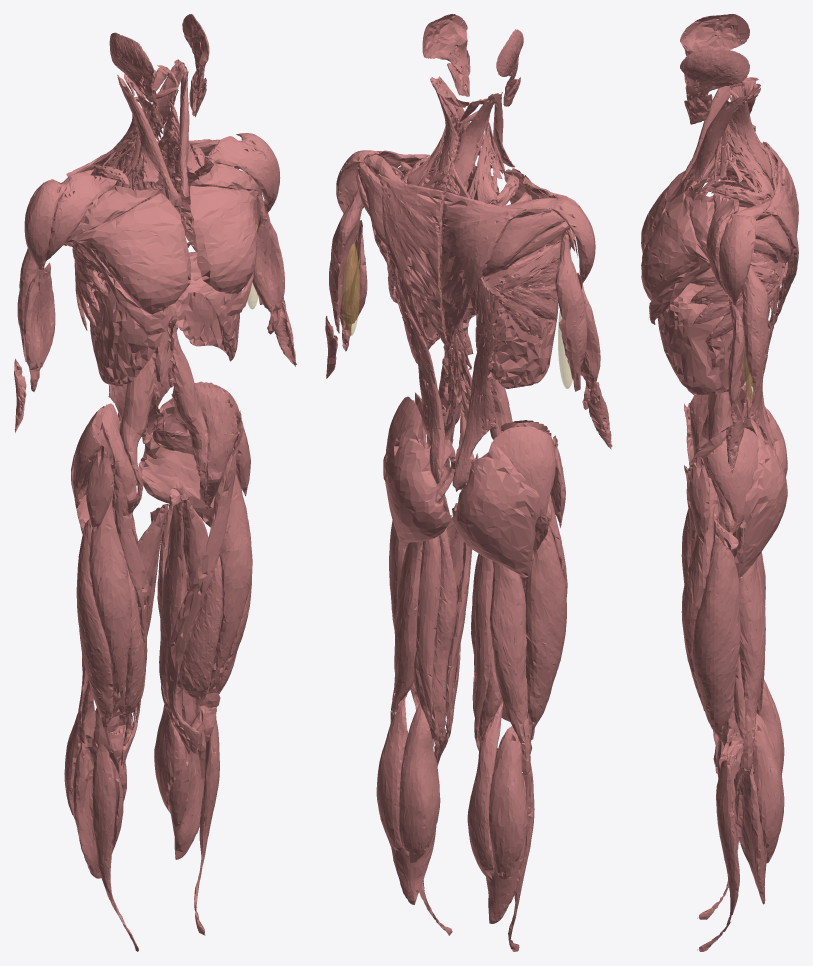
Rendered from TrP_Muscles_web_mirrored.glb.
3 views of the same model, side by side, from view 1: azimuth 30°, elevation 25°; view 2: azimuth 150°, elevation 25°; view 3: azimuth 270°, elevation 25° (orthographic). The views are drawn at different scales.
Visible parts, largest first — view 1: Diaphragm, Sternocostal_head_of_pectoralis_major_muscle.r, Sternocostal_head_of_pectoralis_major_muscle.l, Rectus_femoris_muscle.r, Rectus_femoris_muscle.l, Sartorius_muscle.l, Vastus_lateralis_muscle.r, Gluteus_maximus_muscle.l, Vastus_medialis_muscle.l, Soleus_muscle.l, Iliacus_muscle.l, Gracilis_muscle.l (+40 smaller); view 2: Gluteus_maximus_muscle.r, Descending_part_of_trapezius_muscle.l, Descending_part_of_trapezius_muscle.r, Vastus_lateralis_muscle.r, Long_head_of_biceps_femoris_muscle.r, Gluteus_maximus_muscle.l, Medial_head_of_gastrocnemius.l, Diaphragm, Lateral_head_of_gastrocnemius.r, Serratus_anterior_muscle.r, Iliocostalis_lumborum_muscle.r, Semimembranosus_muscle.l (+40 smaller); view 3: Vastus_lateralis_muscle.l, Diaphragm, Sternocostal_head_of_pectoralis_major_muscle.l, Gluteus_maximus_muscle.l, Long_head_of_biceps_femoris_muscle.l, Serratus_anterior_muscle.l, Lateral_head_of_gastrocnemius.l, Rectus_femoris_muscle.l, Gluteus_medius_muscle.l, Temporalis_muscle.l, Lateral_head_of_triceps_brachii_muscle.l, Soleus_muscle.l (+33 smaller).
Part boxes in pixels (x1=…): Diaphragm: x1=89, y1=251, x2=242, y2=386; Sternocostal_head_of_pectoralis_major_muscle.r: x1=66, y1=193, x2=191, y2=314; Sternocostal_head_of_pectoralis_major_muscle.l: x1=190, y1=185, x2=259, y2=293; Rectus_femoris_muscle.r: x1=89, y1=476, x2=131, y2=763; Rectus_femoris_muscle.l: x1=199, y1=453, x2=252, y2=741; Sartorius_muscle.l: x1=166, y1=428, x2=243, y2=752; Vastus_lateralis_muscle.r: x1=76, y1=517, x2=113, y2=753; Gluteus_maximus_muscle.l: x1=138, y1=398, x2=214, y2=527; Vastus_medialis_muscle.l: x1=179, y1=556, x2=222, y2=726; Soleus_muscle.l: x1=168, y1=712, x2=205, y2=859; Iliacus_muscle.l: x1=194, y1=381, x2=238, y2=509; Gracilis_muscle.l: x1=159, y1=500, x2=190, y2=754; Gluteus_maximus_muscle.r: x1=452, y1=442, x2=540, y2=581; Descending_part_of_trapezius_muscle.l: x1=378, y1=173, x2=450, y2=353; Descending_part_of_trapezius_muscle.r: x1=441, y1=191, x2=526, y2=353; Vastus_lateralis_muscle.r: x1=524, y1=522, x2=566, y2=740; Long_head_of_biceps_femoris_muscle.r: x1=490, y1=561, x2=531, y2=776; Gluteus_maximus_muscle.l: x1=383, y1=424, x2=451, y2=550; Medial_head_of_gastrocnemius.l: x1=399, y1=703, x2=440, y2=862; Diaphragm: x1=404, y1=283, x2=558, y2=388; Lateral_head_of_gastrocnemius.r: x1=488, y1=726, x2=526, y2=879; Serratus_anterior_muscle.r: x1=482, y1=175, x2=559, y2=339; Iliocostalis_lumborum_muscle.r: x1=452, y1=292, x2=504, y2=491; Semimembranosus_muscle.l: x1=414, y1=528, x2=457, y2=748; Vastus_lateralis_muscle.l: x1=692, y1=519, x2=740, y2=767; Diaphragm: x1=657, y1=283, x2=749, y2=395; Sternocostal_head_of_pectoralis_major_muscle.l: x1=641, y1=189, x2=709, y2=300; Gluteus_maximus_muscle.l: x1=734, y1=433, x2=787, y2=578; Long_head_of_biceps_femoris_muscle.l: x1=739, y1=545, x2=765, y2=770; Serratus_anterior_muscle.l: x1=690, y1=184, x2=785, y2=352; Lateral_head_of_gastrocnemius.l: x1=752, y1=719, x2=784, y2=863; Rectus_femoris_muscle.l: x1=681, y1=477, x2=718, y2=773; Gluteus_medius_muscle.l: x1=706, y1=427, x2=758, y2=533; Temporalis_muscle.l: x1=680, y1=48, x2=749, y2=100; Lateral_head_of_triceps_brachii_muscle.l: x1=742, y1=266, x2=770, y2=404; Soleus_muscle.l: x1=734, y1=763, x2=766, y2=904.
Bounding box in the file's own units: 0.5246 × 1.62 × 0.2558.
